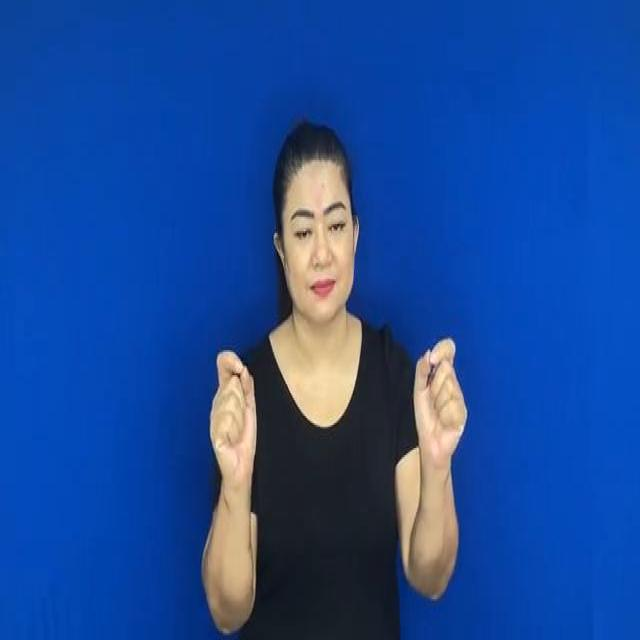crab: (198, 338, 268, 500), (408, 324, 472, 470)
